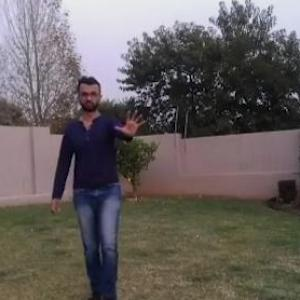follow_hand: (113, 106, 151, 140)
